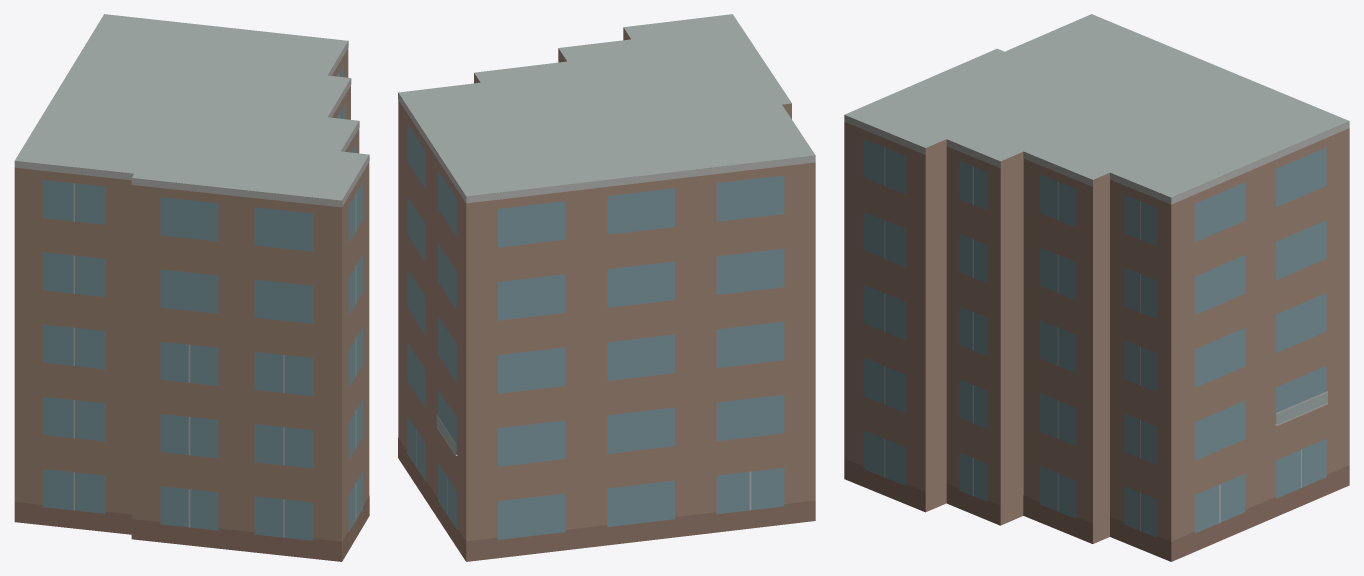
Rendered from survey-upis-32655663.glb.
3 views of the same model, side by side, from view 1: azimuth 30°, elevation 25°; view 2: azimuth 150°, elevation 25°; view 3: azimuth 270°, elevation 25° (orthographic).
Parts seen in each view (by area): view 1: survey-upis-32655663.tmp; view 2: survey-upis-32655663.tmp; view 3: survey-upis-32655663.tmp.
Part boxes in pixels (box(x1,y1,x2,y2)): survey-upis-32655663.tmp: box(14, 14, 369, 561); survey-upis-32655663.tmp: box(398, 14, 815, 561); survey-upis-32655663.tmp: box(844, 14, 1349, 561).
Size of the model in its own units: 13.74 by 12.7 by 15.98.
